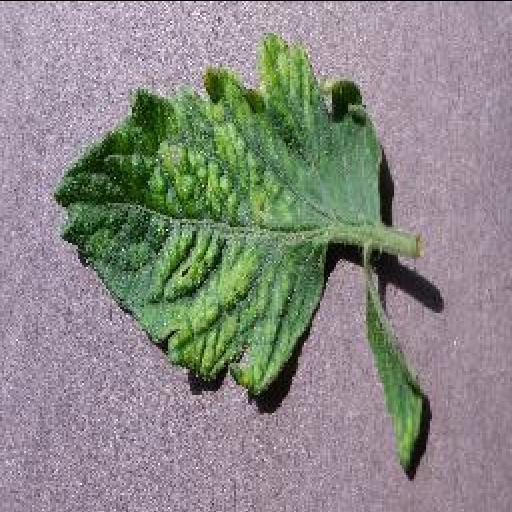disease_tomato: (50, 32, 386, 396), (362, 280, 428, 474)
